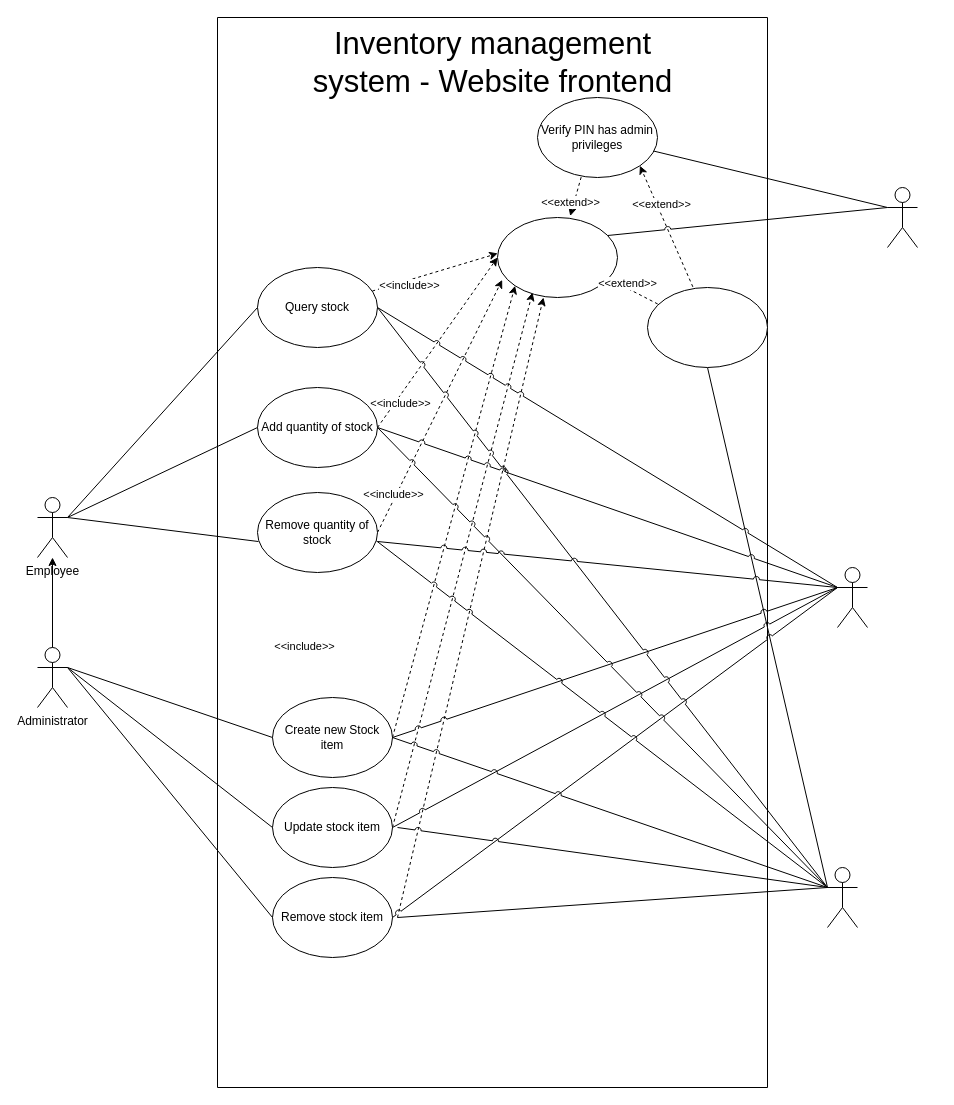
The diagram is 954 pixels wide and 1105 high, and some of its shapes have lost their labels. The shapes that lost their labels are listed below. From the top down, each one's centre as x and y in pixels, then its label:
[902,217]: PIN backend
[557,257]: Verify PIN is valid
[707,327]: Invalid PIN/Insufficient authority
[852,597]: Stock backend
[842,897]: Logging backend
